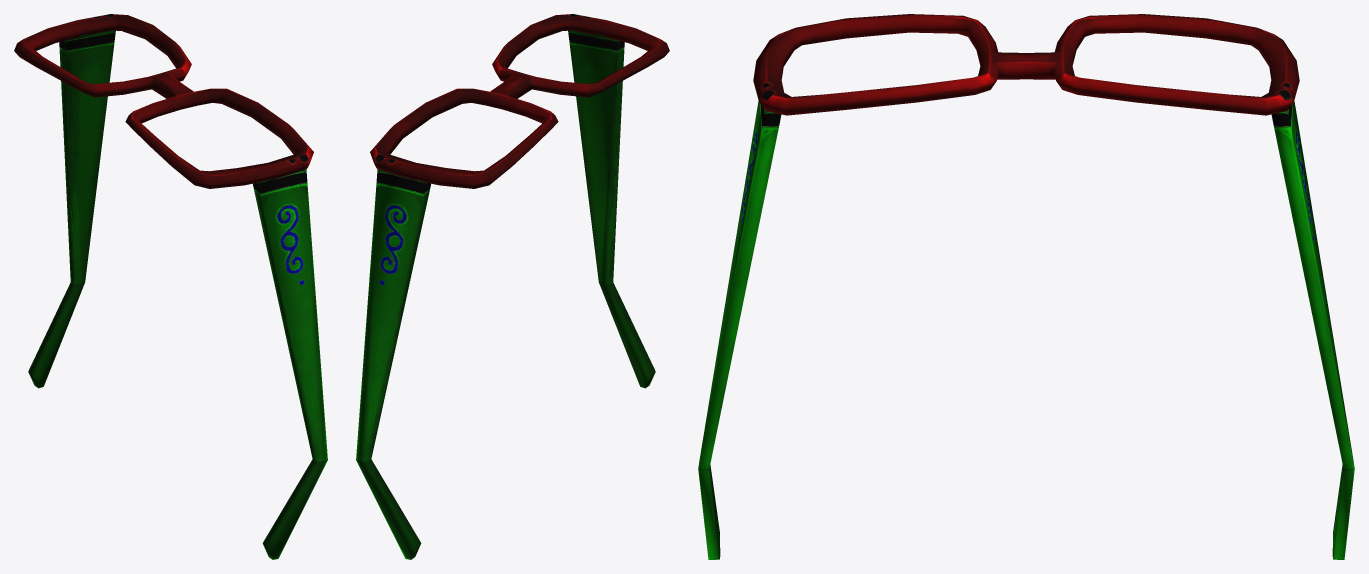
3 views of the same model, side by side, from view 1: azimuth 30°, elevation 25°; view 2: azimuth 150°, elevation 25°; view 3: azimuth 270°, elevation 25° (orthographic). The views are drawn at different scales.
Parts seen in each view (by area): view 1: B1204; view 2: B1204; view 3: B1204.
Part boxes in pixels (bbox=[...]): B1204: bbox=[14, 14, 327, 559]; B1204: bbox=[356, 14, 669, 559]; B1204: bbox=[698, 14, 1354, 559].
Size of the model in its own units: 0.1105 by 0.3191 by 0.3699.
